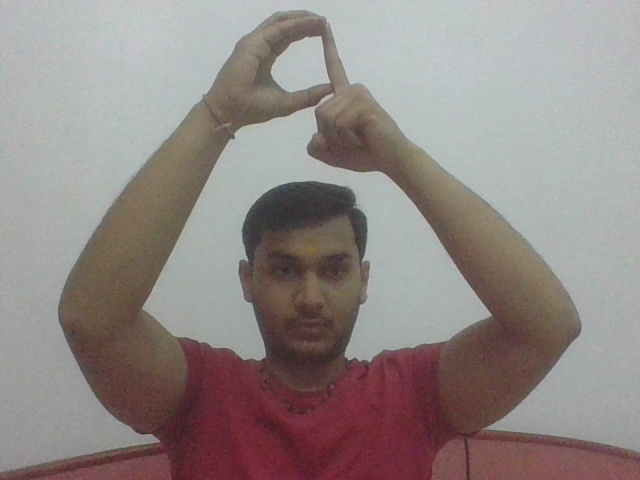D: (220, 7, 394, 180)
